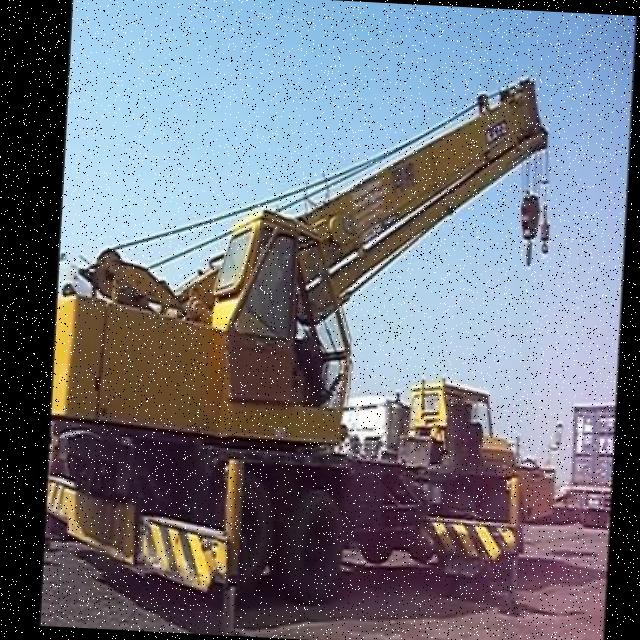Mobile Crane: (42, 52, 555, 640)
